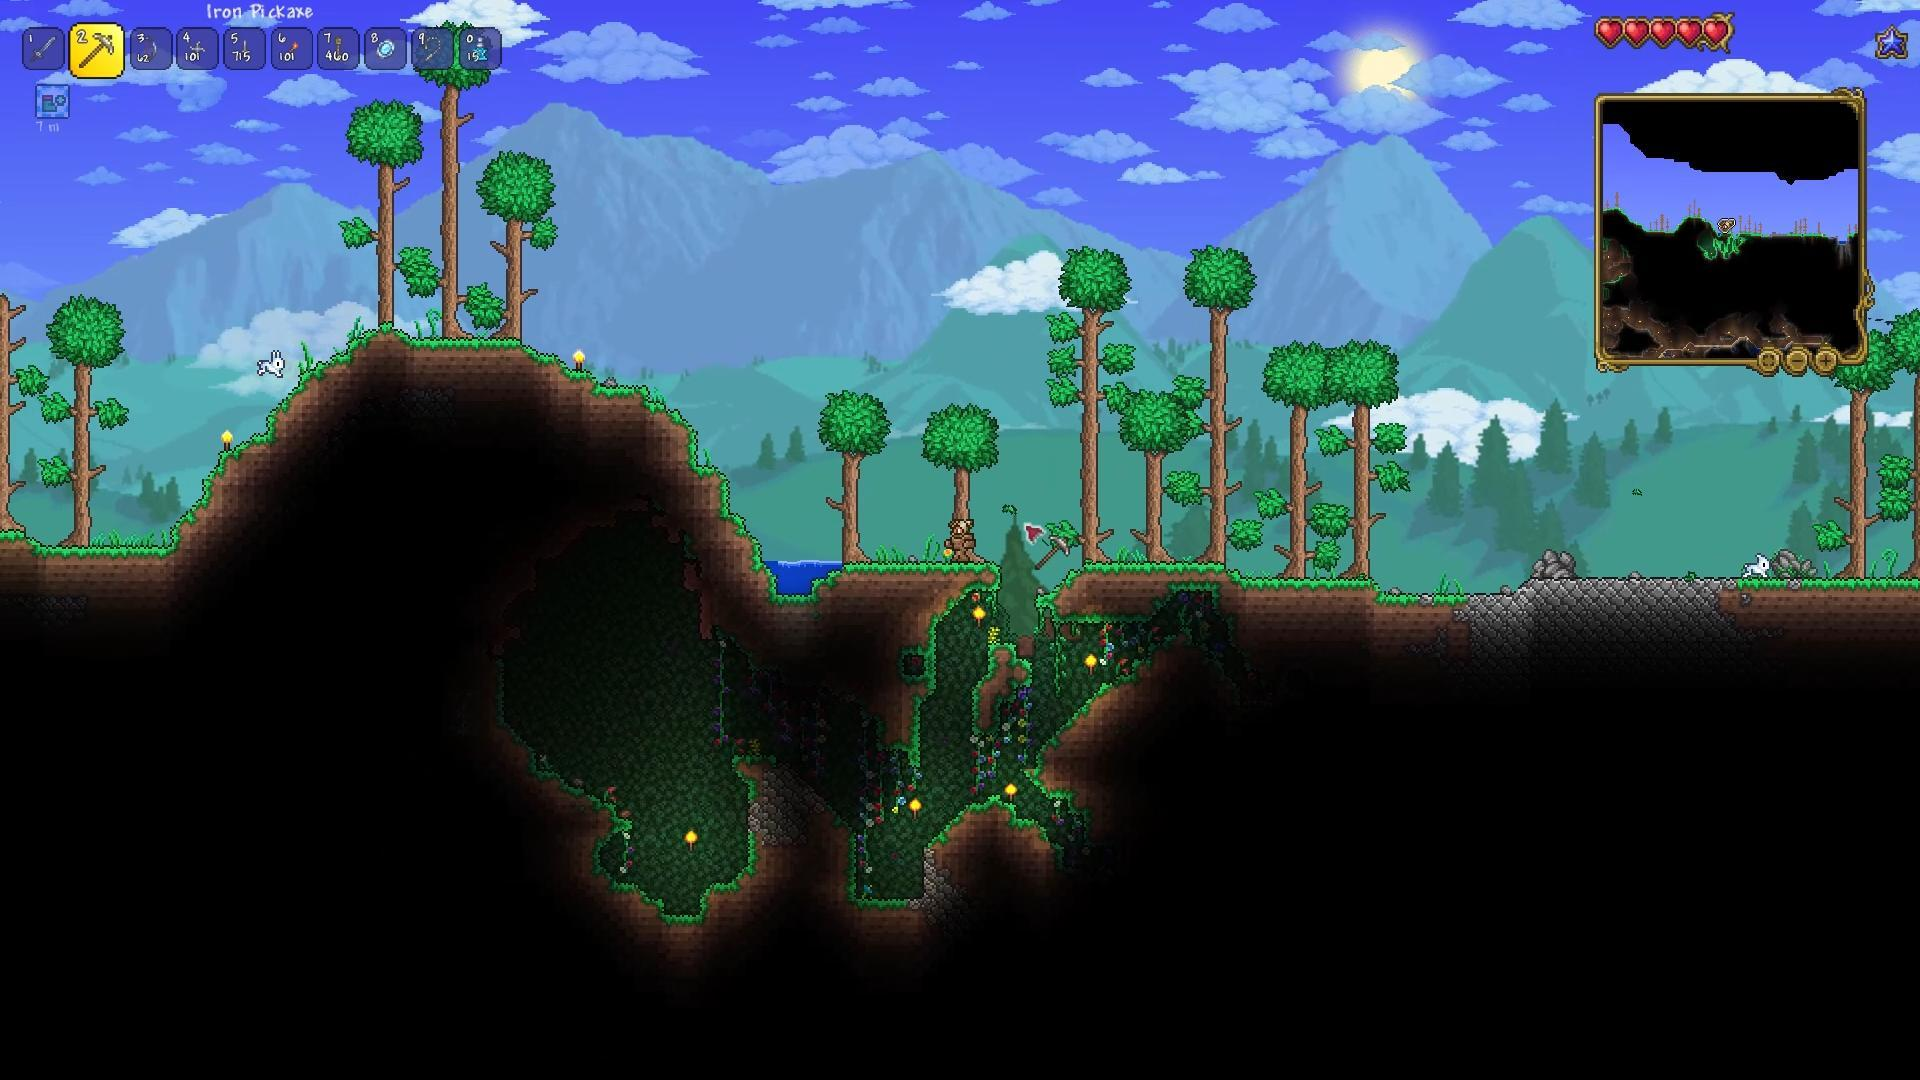dirt: (179, 326, 382, 526), (537, 353, 695, 443), (509, 727, 636, 820), (1, 524, 199, 576), (1029, 549, 1229, 600), (1036, 667, 1127, 765), (884, 579, 993, 657), (381, 324, 546, 367), (688, 458, 757, 555), (1741, 563, 1920, 600), (968, 645, 1034, 741), (1234, 562, 1381, 601), (841, 832, 914, 911), (837, 543, 990, 579), (901, 650, 943, 778), (940, 795, 1039, 837), (753, 564, 843, 611), (1118, 618, 1192, 673), (592, 811, 637, 897), (717, 835, 766, 901), (1021, 758, 1081, 810), (1366, 589, 1462, 620), (641, 887, 717, 924)
stone: (1462, 570, 1724, 616), (913, 841, 936, 901), (744, 802, 765, 832)
